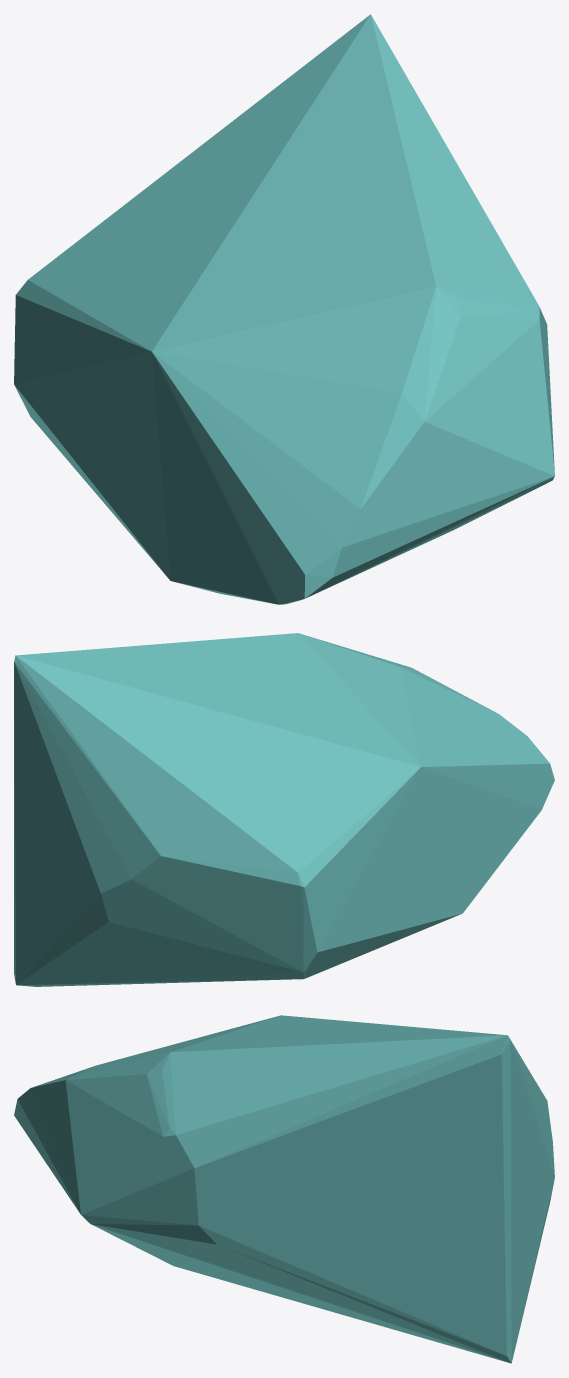
File: equipment_paintPumpSystem_compactTripod_a01.glb
3 views of the same model, one above another, from view 1: azimuth 30°, elevation 25°; view 2: azimuth 150°, elevation 25°; view 3: azimuth 270°, elevation 25° (orthographic). The views are drawn at different scales.
Visible parts, largest first — view 1: geometry_0; view 2: geometry_0; view 3: geometry_0.
Boxes of the visible parts, x1=… form: geometry_0: x1=14, y1=14, x2=554, y2=604; geometry_0: x1=14, y1=633, x2=554, y2=986; geometry_0: x1=14, y1=1015, x2=554, y2=1363.
Size of the model in its own units: 0.3182 by 0.3216 by 0.4786.
